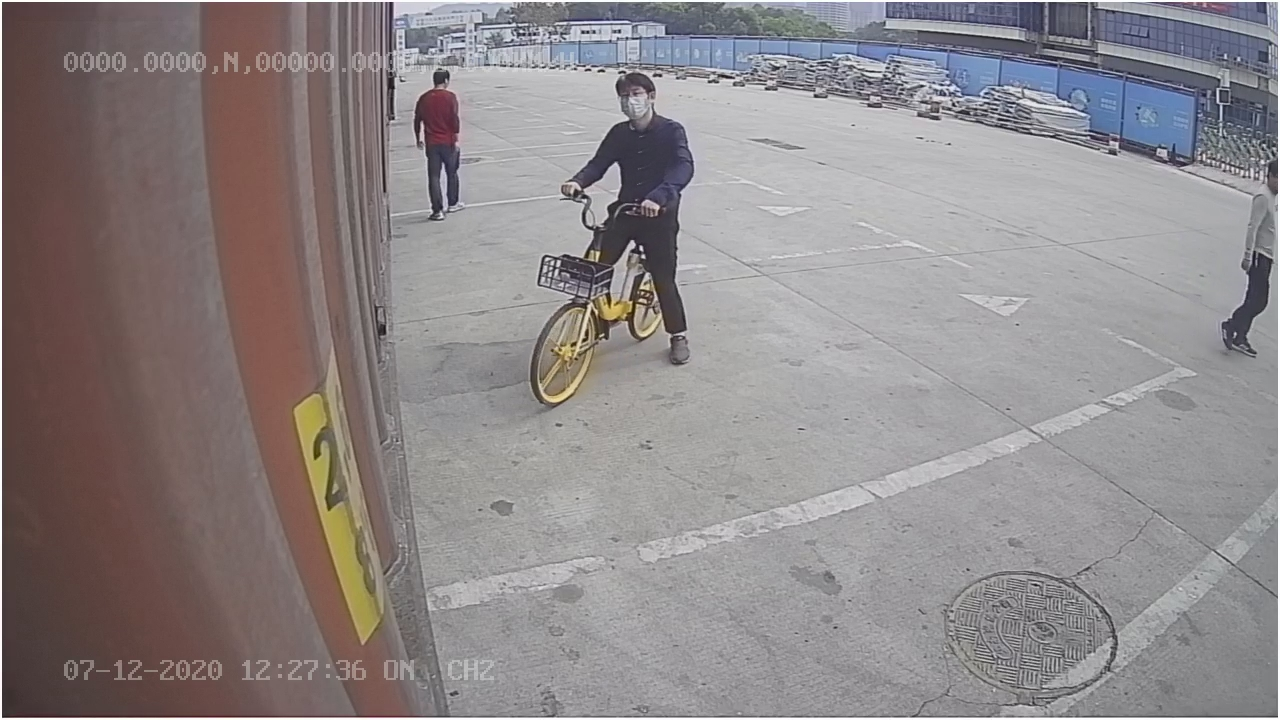person: (407, 65, 472, 226)
